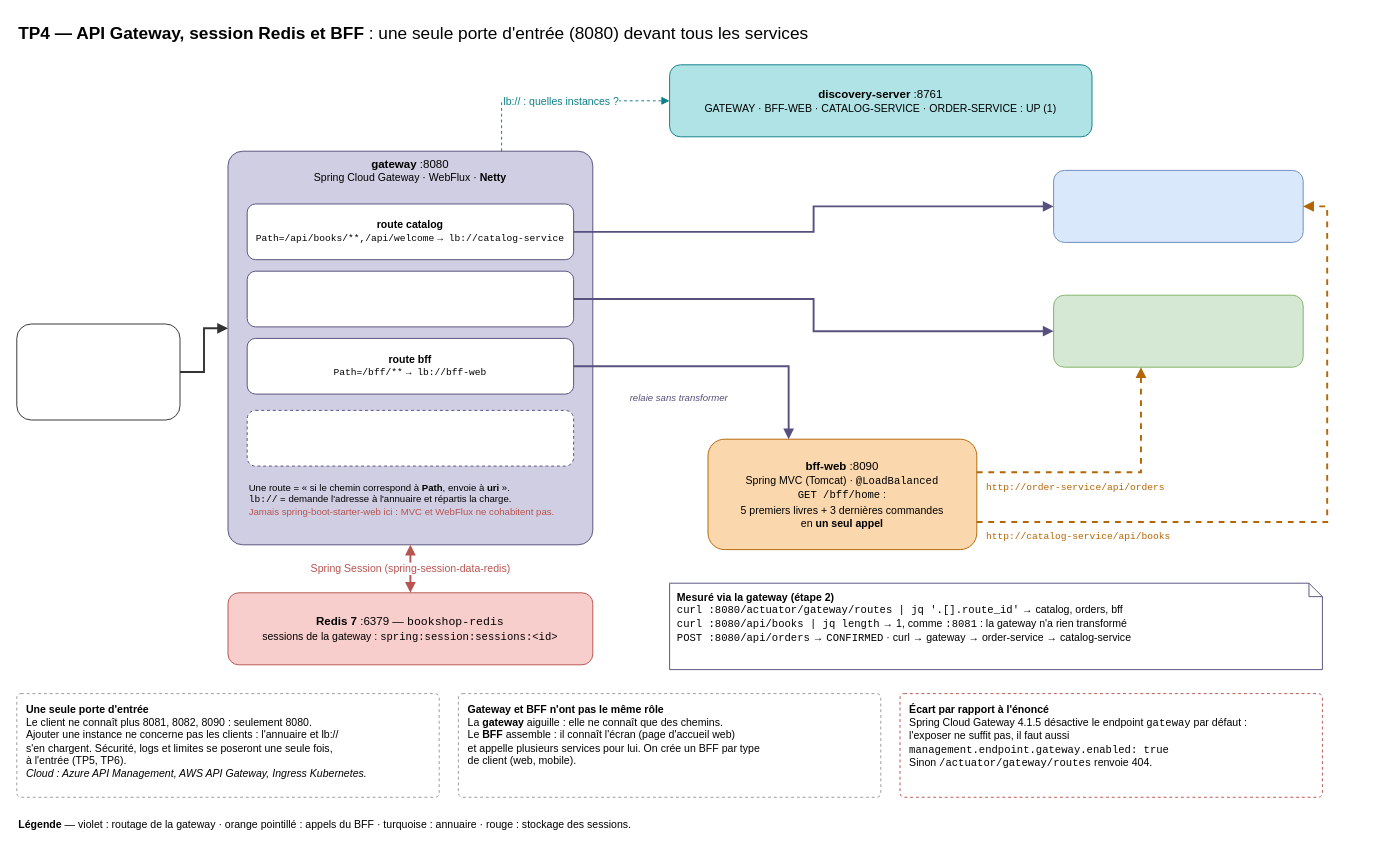
This 1378x866 diagram has some shape labels left out. Each missing label, with the centre of its shape:
catalog-service :8081 /api/books · /api/welcome: [1178,205]
Client navigateur · curl ne connaît que :8080: [98,371]
order-service :8082 /api/orders: [1178,330]
route orders Path=/api/orders/** → lb://order-service: [410,298]
traité par la gateway elle-même /session/info · /actuator/gateway/routes: [410,437]
